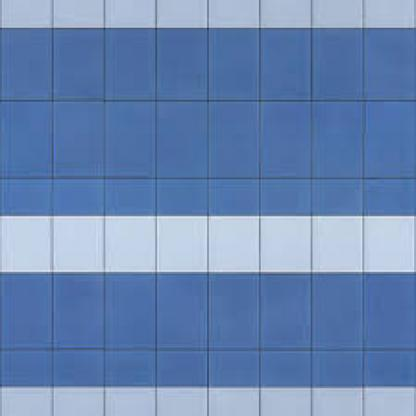window: (6, 279, 46, 344), (59, 279, 100, 342), (4, 34, 46, 95), (370, 34, 412, 95), (268, 279, 307, 344), (266, 107, 305, 172), (318, 107, 357, 172), (266, 35, 307, 96), (318, 33, 357, 96), (111, 35, 152, 94), (61, 107, 98, 172), (113, 107, 150, 172), (6, 107, 44, 170), (61, 34, 100, 95), (163, 35, 203, 94), (164, 107, 200, 172), (320, 279, 357, 342), (370, 279, 408, 340), (216, 34, 254, 95), (164, 281, 200, 344), (216, 107, 252, 170), (374, 107, 410, 170), (113, 279, 148, 342), (216, 281, 252, 342), (61, 353, 98, 383), (59, 185, 98, 211), (7, 185, 44, 211), (320, 357, 357, 383), (164, 357, 204, 381), (266, 187, 305, 211), (318, 187, 357, 211), (216, 358, 254, 382), (370, 357, 407, 381), (268, 358, 305, 382), (114, 358, 150, 382), (113, 187, 148, 211), (8, 357, 46, 379), (164, 187, 198, 209), (216, 187, 252, 207), (374, 187, 410, 207)
